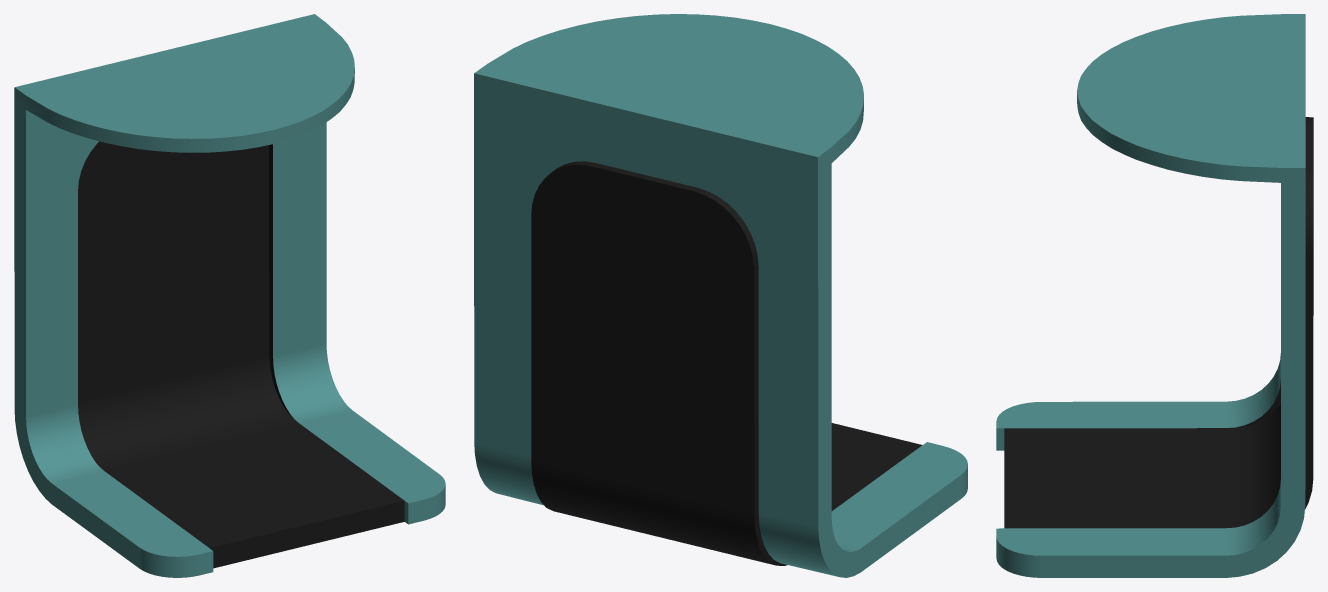
Rendered from BarSeat_Mesh.fbx.
3 views of the same model, side by side, from view 1: azimuth 30°, elevation 25°; view 2: azimuth 150°, elevation 25°; view 3: azimuth 270°, elevation 25° (orthographic). The views are drawn at different scales.
Visible parts, largest first — view 1: BarSeat_Mesh; view 2: BarSeat_Mesh; view 3: BarSeat_Mesh.
Boxes of the visible parts, box(x1,y1,x2,y2) form: BarSeat_Mesh: box(14, 14, 445, 577); BarSeat_Mesh: box(474, 14, 967, 577); BarSeat_Mesh: box(996, 14, 1313, 577).
Bounding box in the file's own units: 54.17 × 67.2 × 47.1.
